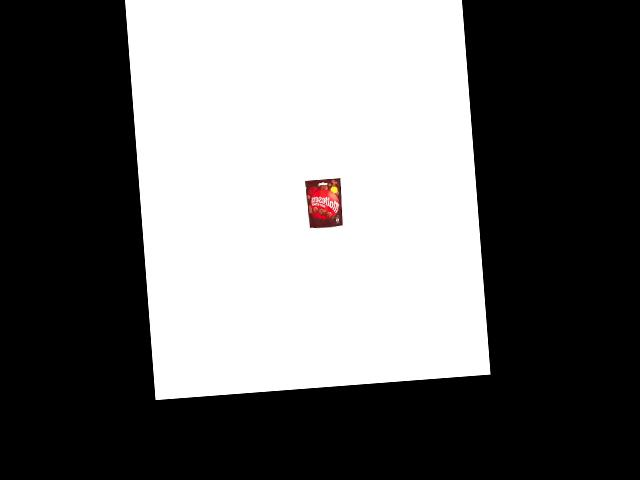chocolate: (304, 177, 344, 229)
